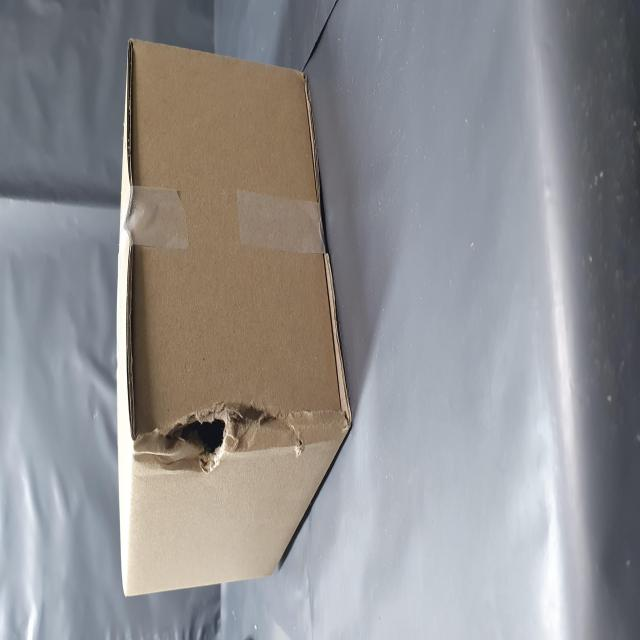damaged: (97, 240, 132, 505)
